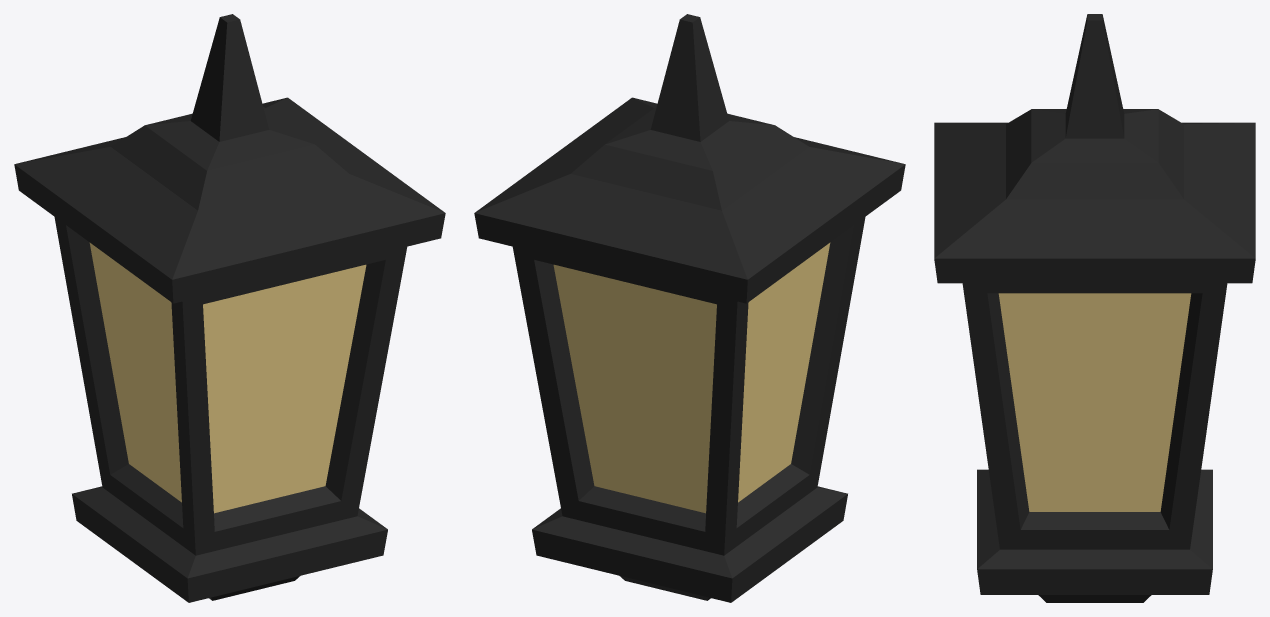
Rendered from lamp.fbx.
3 renders of one model, left to right at view 1: azimuth 30°, elevation 25°; view 2: azimuth 150°, elevation 25°; view 3: azimuth 270°, elevation 25°, orthographic.
Parts seen in each view (by area): view 1: classic_lamp.001; view 2: classic_lamp.001; view 3: classic_lamp.001.
Part boxes in pixels (bbox=[...]): classic_lamp.001: bbox=[14, 14, 445, 602]; classic_lamp.001: bbox=[474, 14, 905, 602]; classic_lamp.001: bbox=[934, 14, 1255, 602].
Size of the model in its own units: 32.77 by 63.55 by 32.77.
